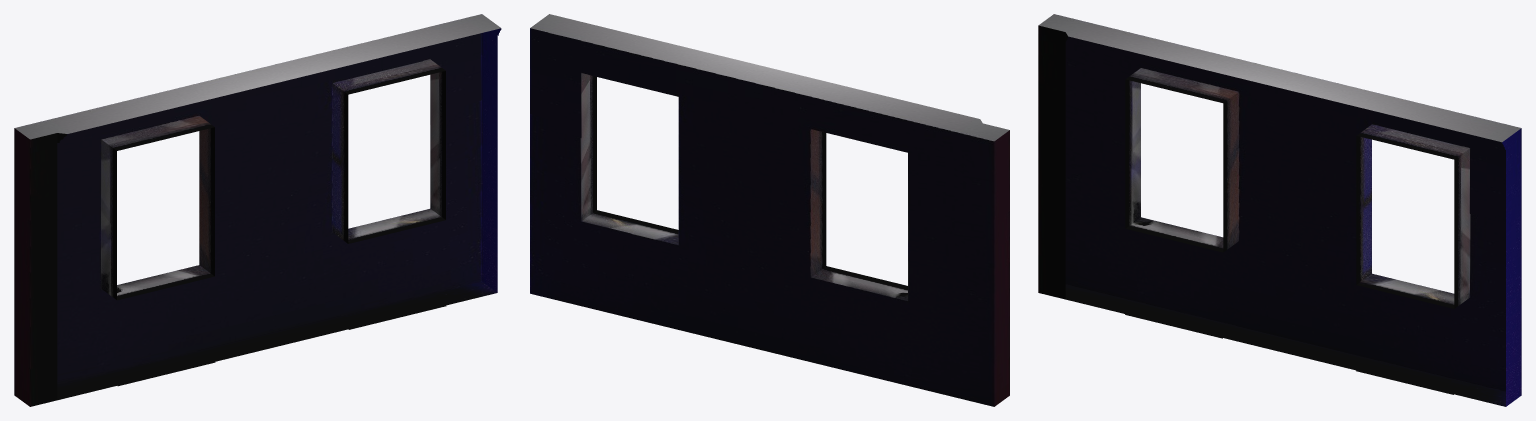
File: wall_right_back.glb
The picture shows the model from 3 angles, left to right: view 1: azimuth 30°, elevation 25°; view 2: azimuth 150°, elevation 25°; view 3: azimuth 330°, elevation 25°; orthographic projection.
Visible parts, largest first — view 1: wall_right_back; view 2: wall_right_back; view 3: wall_right_back.
Part boxes in pixels (<box>): wall_right_back: <box>14,14,501,406</box>; wall_right_back: <box>530,14,1009,406</box>; wall_right_back: <box>1038,14,1521,406</box>.
Size of the model in its own units: 34.4 by 18.8 by 2.48.
1 material, 1 textured.
